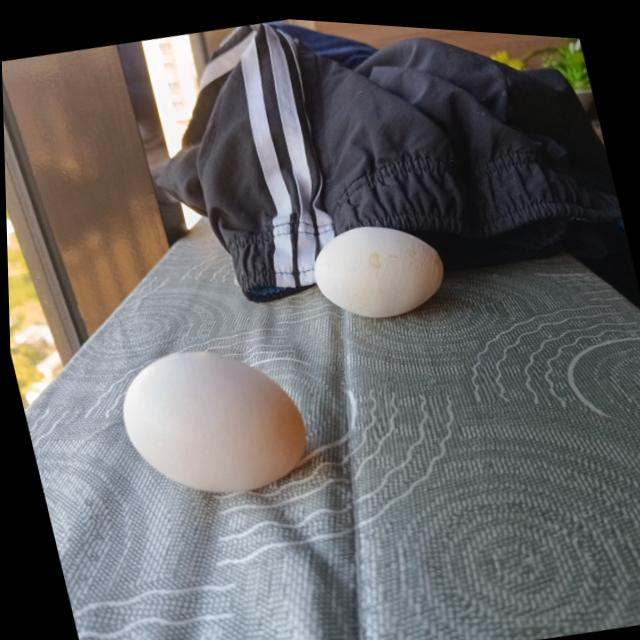egg: (110, 328, 312, 508), (302, 206, 449, 325)
